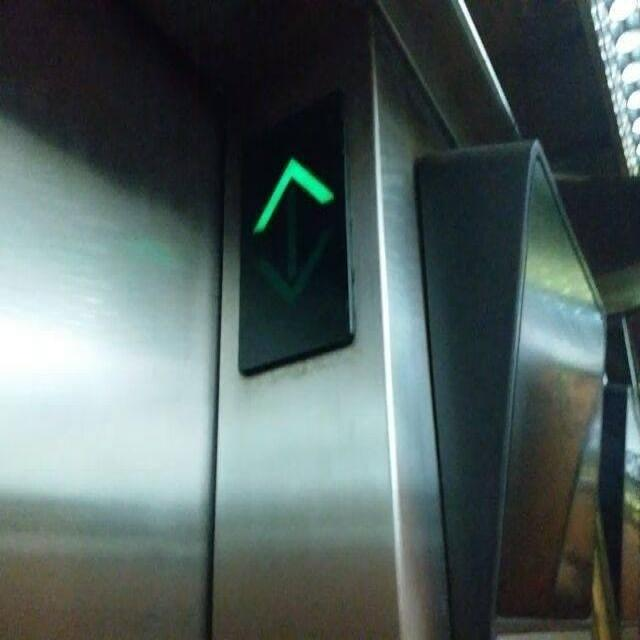up: (236, 84, 355, 381)
